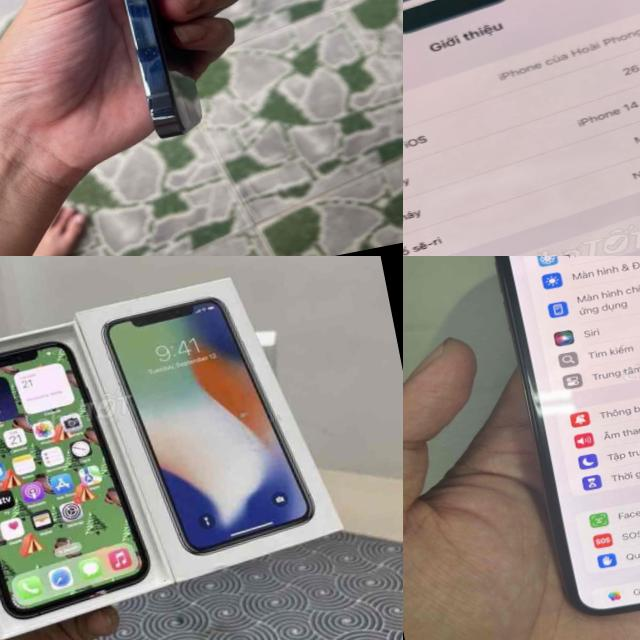gen_12_13: (62, 0, 218, 159)
gen_14: (403, 0, 640, 256)
gen_x_xs: (448, 256, 640, 640), (0, 298, 180, 628)
scratch: (127, 11, 172, 88)
